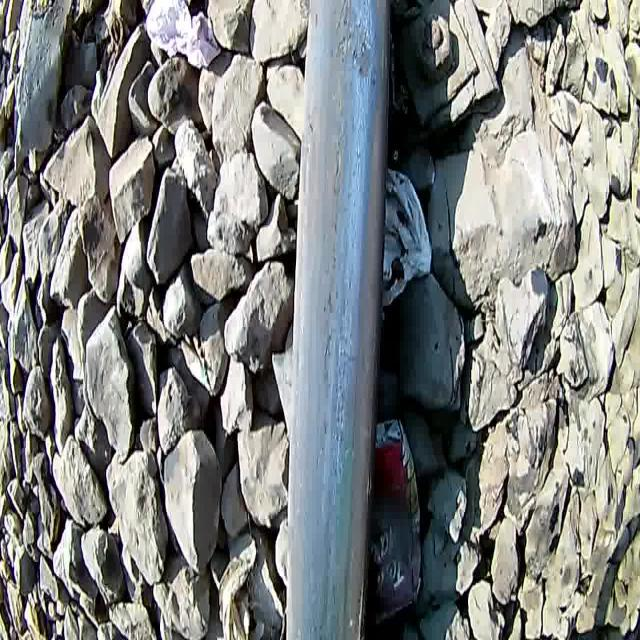Squats: (351, 39, 376, 84)
